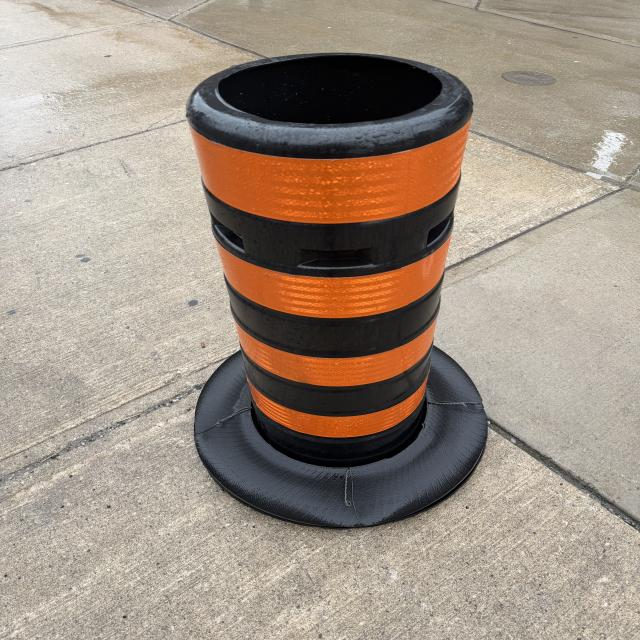Teraffic Barrel: (187, 54, 487, 527)
